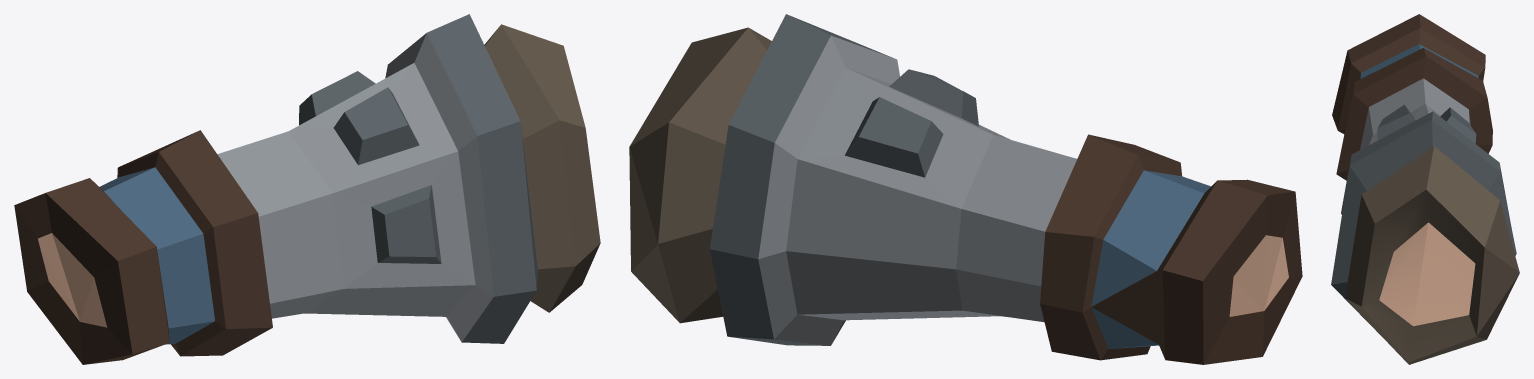
Rendered from Chr_ArmLowerRight_Female_15_Static.fbx.
3 renders of one model, left to right at view 1: azimuth 30°, elevation 25°; view 2: azimuth 150°, elevation 25°; view 3: azimuth 270°, elevation 25°, orthographic. The views are drawn at different scales.
Parts seen in each view (by area): view 1: Chr_ArmLowerRight_Female_15_Static; view 2: Chr_ArmLowerRight_Female_15_Static; view 3: Chr_ArmLowerRight_Female_15_Static.
Part boxes in pixels (x1,y1,x2,y2): Chr_ArmLowerRight_Female_15_Static: [14, 14, 600, 364]; Chr_ArmLowerRight_Female_15_Static: [629, 14, 1302, 364]; Chr_ArmLowerRight_Female_15_Static: [1331, 14, 1519, 364].
Bounding box in the file's own units: 0.3002 × 0.1691 × 0.123.
